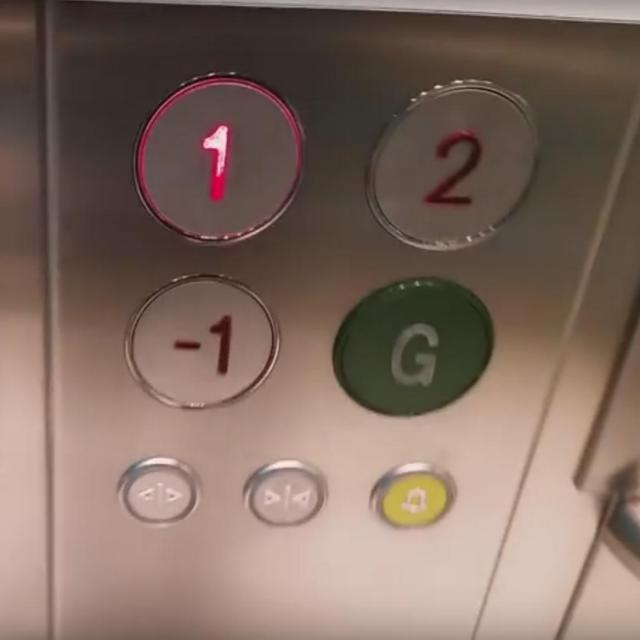-1: (124, 269, 281, 416)
1: (132, 72, 305, 246)
2: (367, 73, 541, 256)
G: (328, 271, 496, 420)
alarm: (367, 459, 459, 537)
close: (240, 455, 330, 533)
open: (114, 454, 205, 531)
